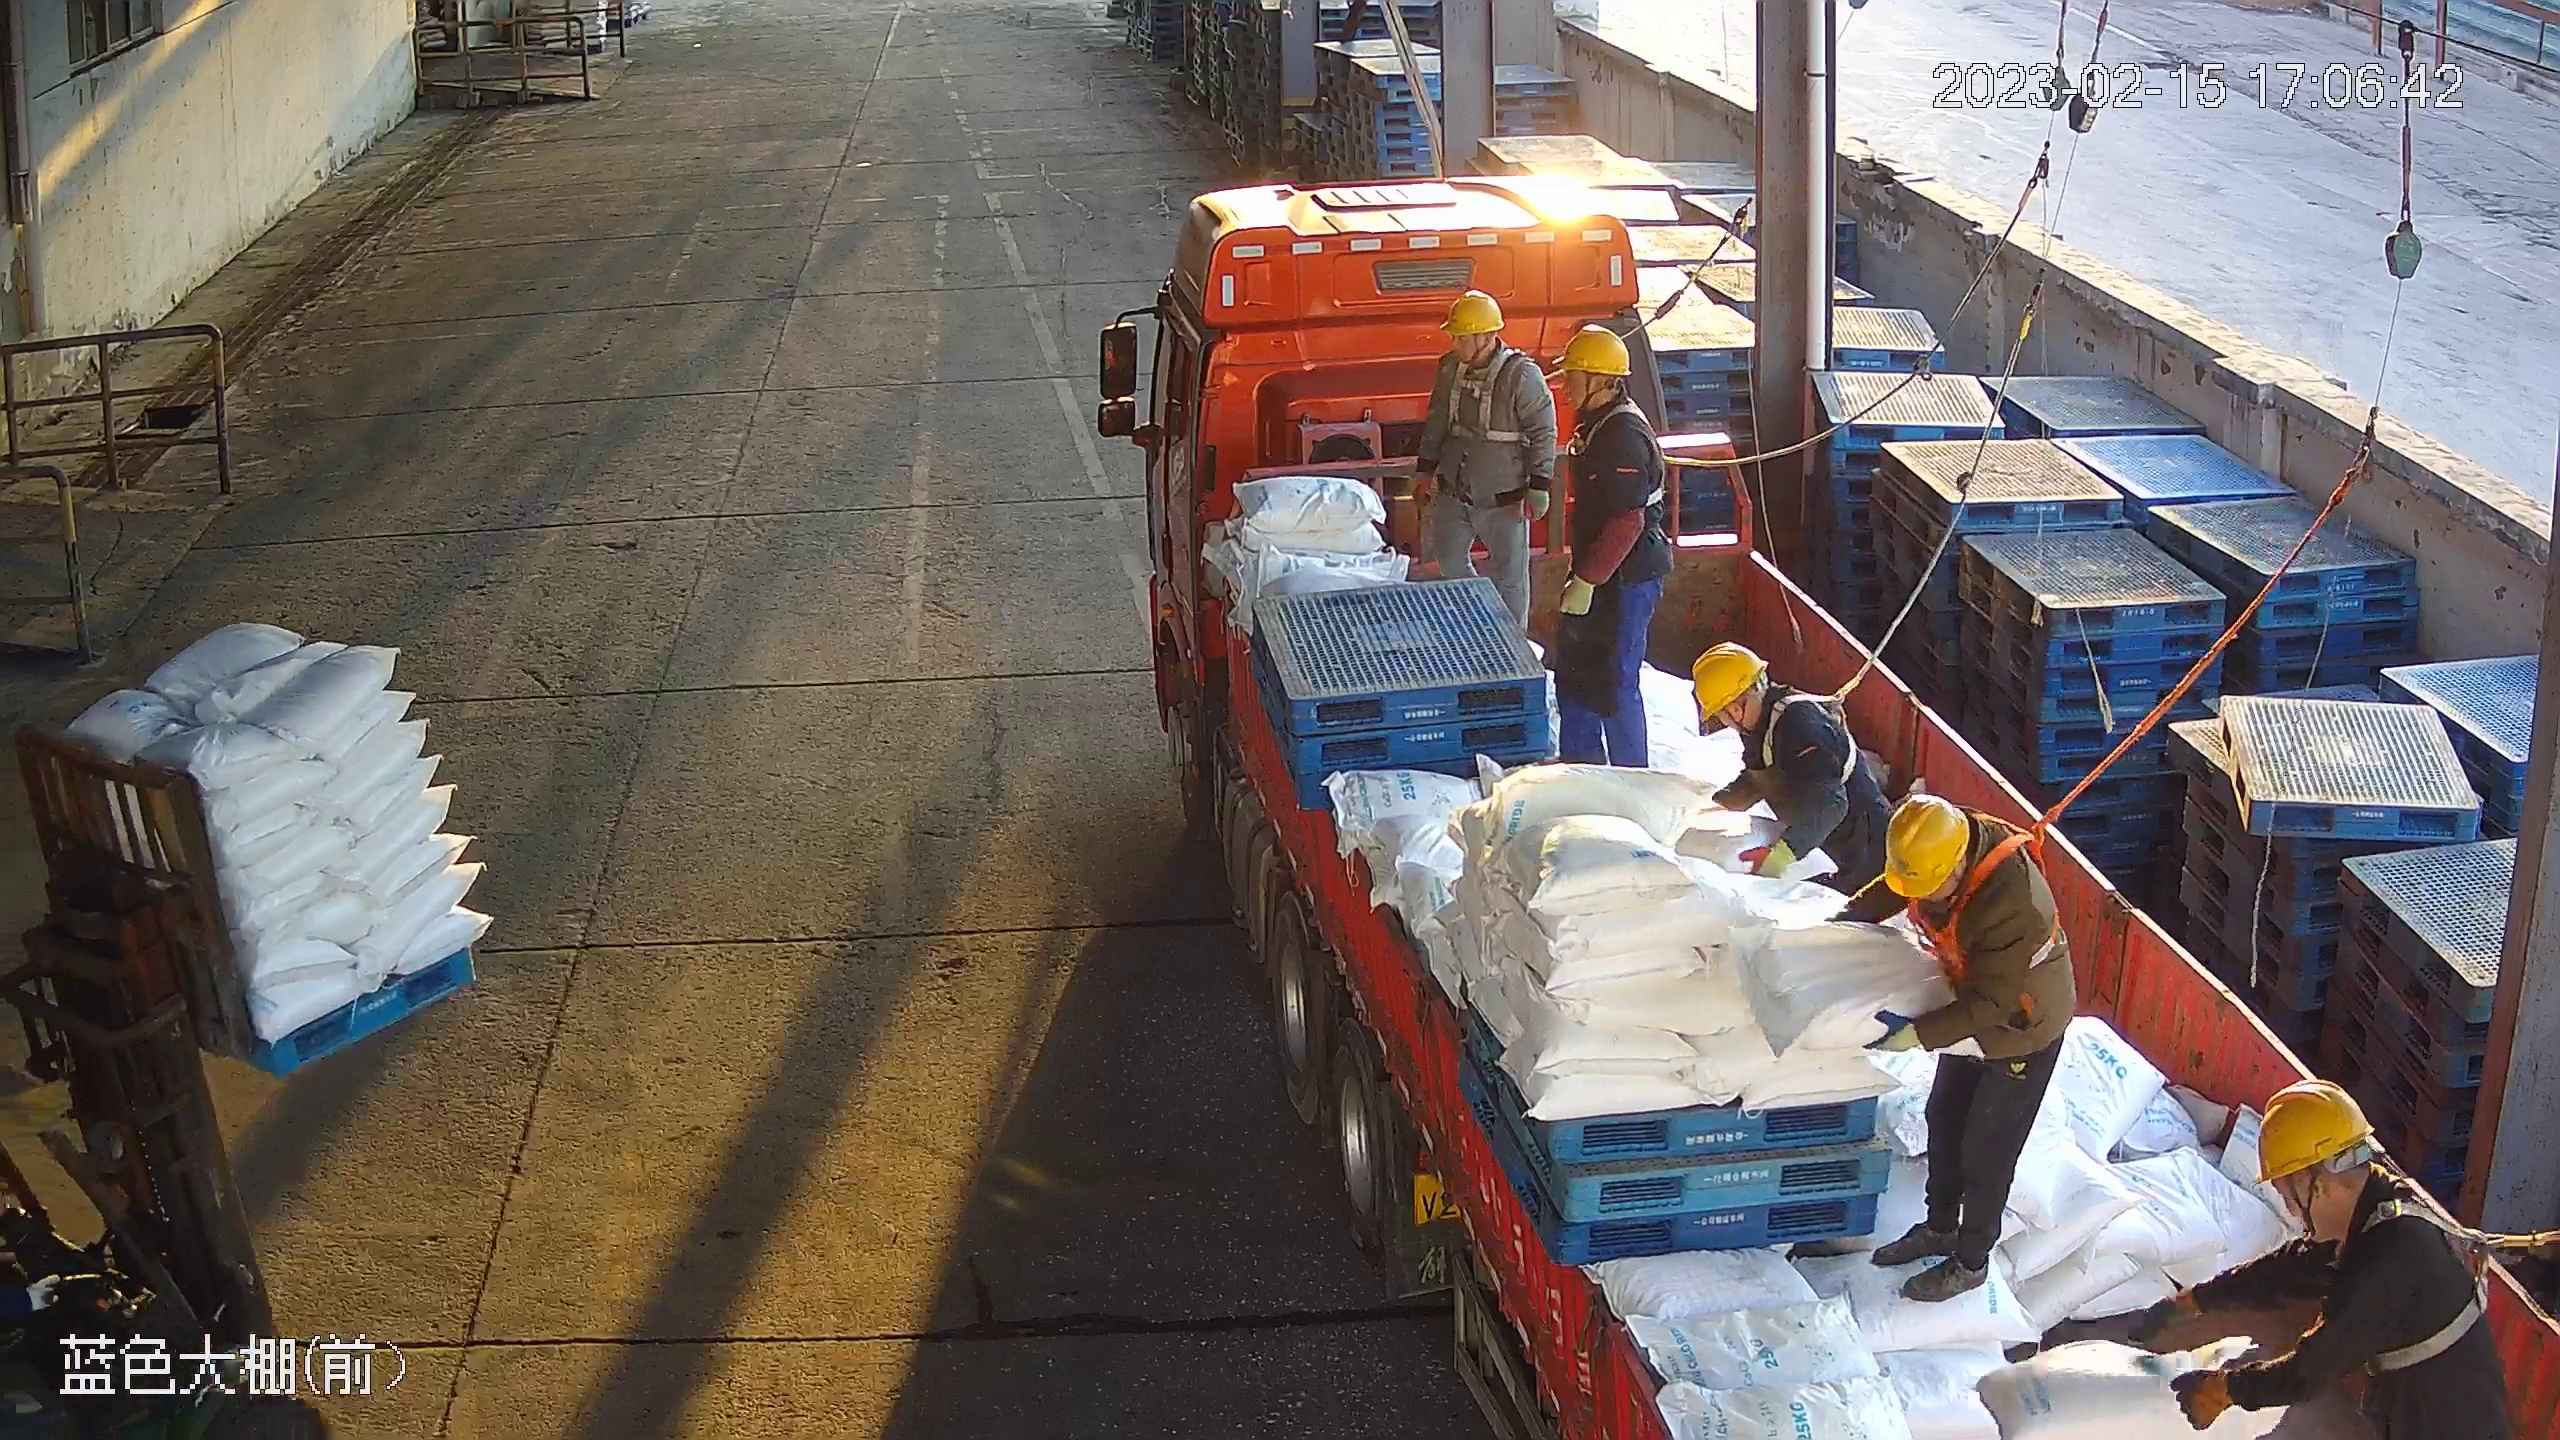belt: (2364, 1167, 2509, 1390), (1897, 799, 2067, 968), (1752, 681, 1869, 790), (1578, 401, 1708, 493), (1436, 353, 1528, 450)
head: (2185, 1077, 2493, 1354), (1852, 793, 2052, 959), (1691, 645, 1846, 790), (1555, 322, 1666, 473), (1420, 285, 1546, 410)
helmet: (2259, 1077, 2376, 1182), (1879, 796, 1970, 897), (1691, 640, 1768, 723), (1553, 320, 1631, 379), (1436, 290, 1505, 333)
people: (1830, 792, 2078, 1301), (1553, 325, 1672, 770), (1691, 642, 1898, 882), (1416, 285, 1554, 637)
truck: (1100, 174, 2560, 1440)
